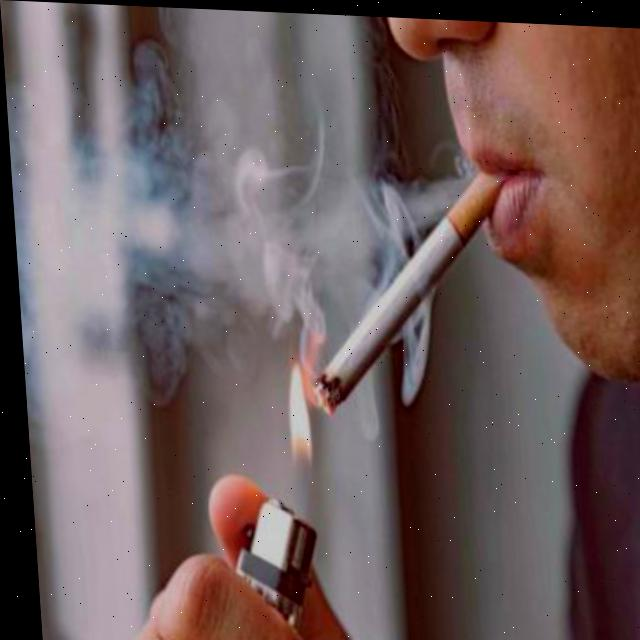cigarette: (298, 160, 509, 420)
